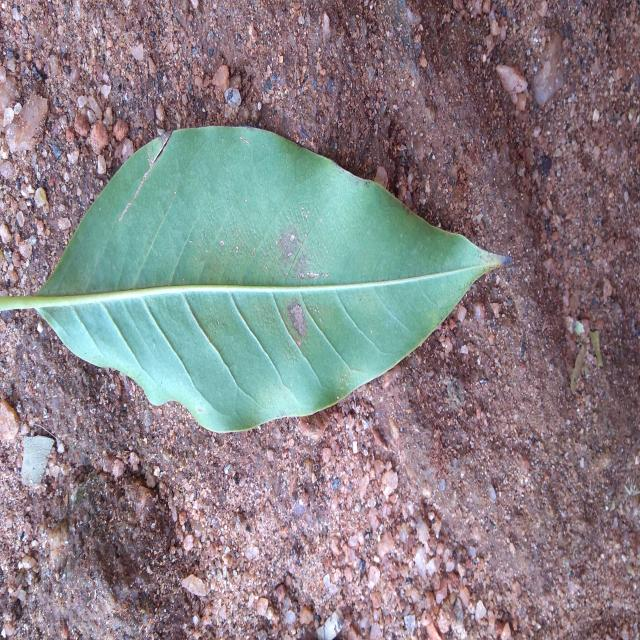sampige: (0, 127, 504, 431)
